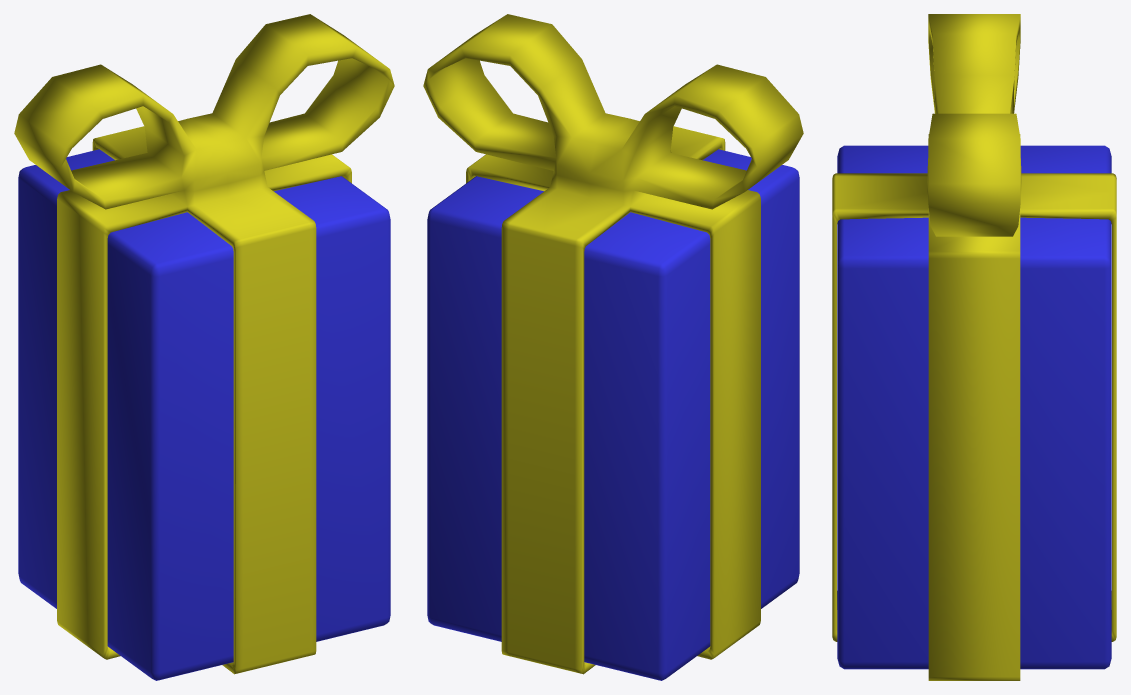
The model's file is Regalo_variant.fbx.
3 views of the same model, side by side, from view 1: azimuth 30°, elevation 25°; view 2: azimuth 150°, elevation 25°; view 3: azimuth 270°, elevation 25° (orthographic).
Parts seen in each view (by area): view 1: Presente, Nastro; view 2: Presente, Nastro; view 3: Presente, Nastro.
Part boxes in pixels (x1,y1,x2,y2): Presente: (18,149,390,680); Nastro: (14,14,394,674); Presente: (427,149,799,680); Nastro: (423,14,803,674); Presente: (837,145,1111,669); Nastro: (832,14,1116,680).
Size of the model in its own units: 36.17 by 57.28 by 26.93.
